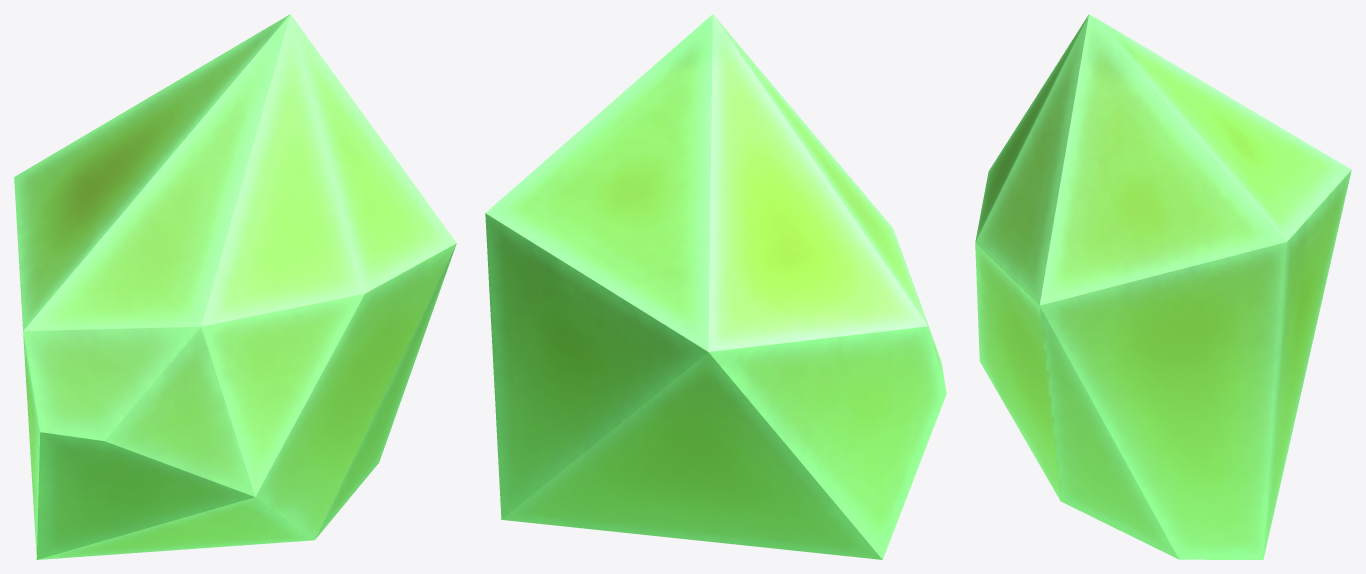
File: crystal_piece_005.fbx
3 views of the same model, side by side, from view 1: azimuth 30°, elevation 25°; view 2: azimuth 150°, elevation 25°; view 3: azimuth 270°, elevation 25° (orthographic). The views are drawn at different scales.
Visible parts, largest first — view 1: crystal_piece_005; view 2: crystal_piece_005; view 3: crystal_piece_005.
Part boxes in pixels (<box>): crystal_piece_005: <box>14,14,456,559</box>; crystal_piece_005: <box>485,14,946,559</box>; crystal_piece_005: <box>975,14,1351,559</box>.
Bounding box in the file's own units: 0.4619 × 0.5778 × 0.408.
